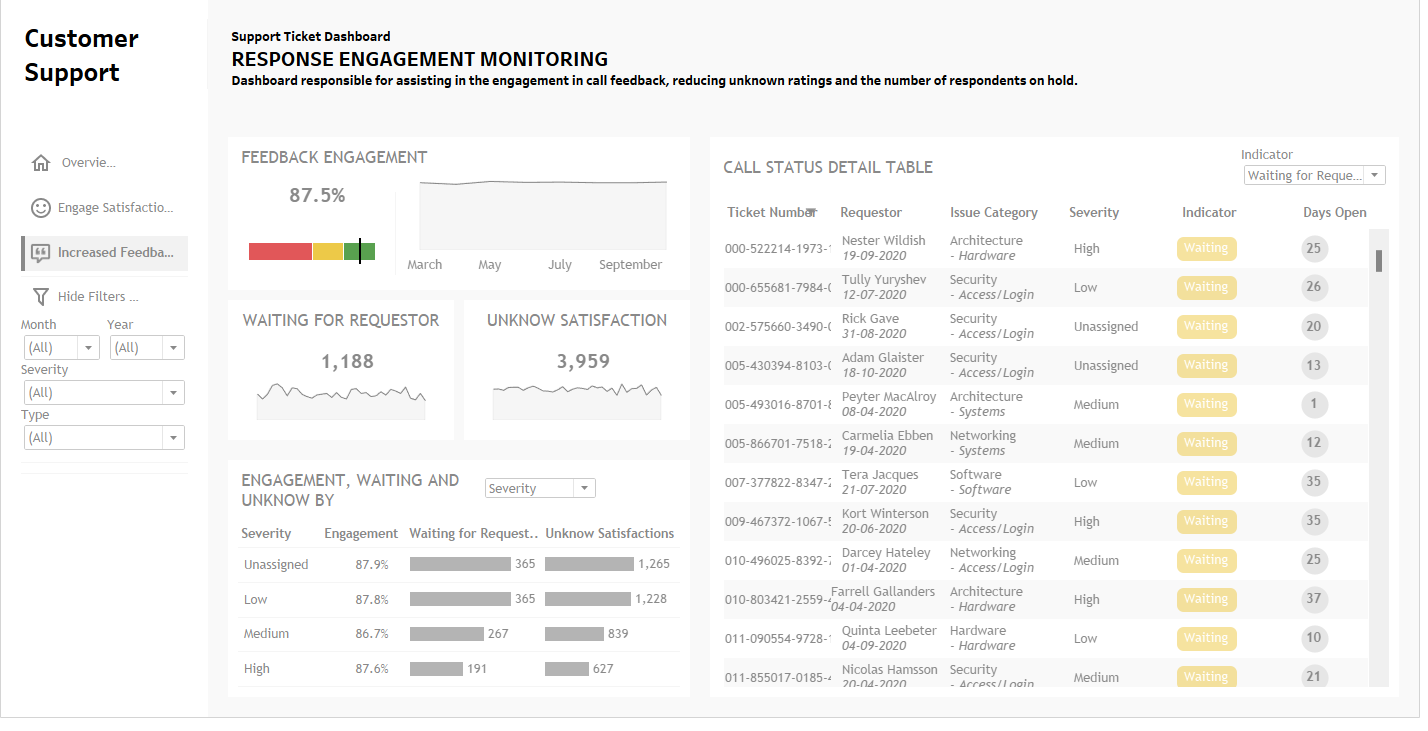

The dashboard page shown, as its layout file describes it:
{"tool":"tableau","page":{"name":"Increased Feedback - Light","canvas":[1420,720],"ordinal":1},"visuals":[{"type":"text","box":[1,1,206,110]},{"type":"blank","box":[207,1,1,110]},{"type":"text","box":[208,1,1211,118]},{"type":"text","box":[970,87,265,60]},{"type":"blank","box":[1,111,207,32]},{"type":"text","box":[228,139,462,40]},{"type":"text","box":[710,139,521,60]},{"type":"parameter","param":"[Parameters].[Parâmetro 6]","box":[1231,139,168,60]},{"type":"blank","box":[970,147,265,7]},{"type":"blank","box":[21,148,4,35]},{"type":"image","param":"Image/Home.png","box":[25,148,30,35]},{"type":"dashboard-object","box":[55,148,75,35]},{"type":"blank","box":[130,148,58,35]},{"type":"text","box":[970,154,265,310]},{"type":"blank","box":[226,165,157,55]},{"type":"worksheet","title":"Increased Feedback Light - Feedback Engagement","mark":"Square","box":[228,179,167,35]},{"type":"blank","box":[395,179,1,113]},{"type":"worksheet","title":"Increased Feedback Light - Engagement by Week","mark":"Line","rows":["Calculation_1188950346097377284","Calculation_1188950346097377284"],"cols":["created_date"],"box":[396,179,294,113]},{"type":"blank","box":[21,193,4,35]},{"type":"image","param":"Image/Engage.png","box":[25,193,30,35]},{"type":"dashboard-object","box":[55,193,123,35]},{"type":"blank","box":[178,193,10,35]},{"type":"text","box":[720,199,113,32]},{"type":"text","box":[833,199,110,32]},{"type":"text","box":[943,199,119,32]},{"type":"text","box":[1062,199,113,32]},{"type":"text","box":[1175,199,121,32]},{"type":"text","box":[1295.9,199,93.1,32]},{"type":"dashboard-object","box":[805,203,12,24]},{"type":"worksheet","title":"Increased Feedback Light - Feedback Engagement Speedometer","mark":"Bar","cols":["Calculation_1188950346097377284"],"box":[228,214,167,78]},{"type":"worksheet","title":"Increased Feedback Light -Table of Details","mark":"Circle","rows":["ticket_number"],"cols":["Calculation_361413912478396419","Calculation_361413912480407562","Calculation_361413912478396419","Calculation_361413912478396419","Calculation_925771243185537029","Calculation_925771243185631238"],"box":[710,231,689,468]},{"type":"text","box":[720,231,121,32]},{"type":"filter","title":"Increased Feedback Light -Table of Details","param":"[federated.0cysz861ktjxcq1fd9xv01acxm97].[none:ticket_number:nk]","box":[841,231,164,32]},{"type":"blank","box":[21,238,4,35]},{"type":"image","param":"Image/Feedback.png","box":[25,238,30,35]},{"type":"dashboard-object","box":[55,238,128,35]},{"type":"blank","box":[183,238,5,35]},{"type":"blank","box":[1,278,207,1]},{"type":"blank","box":[21,284,4,30]},{"type":"image","param":"Image/Filter Menu.png","box":[25,284,30,30]},{"type":"dashboard-object","box":[55,284,88,30]},{"type":"blank","box":[143,284,45,30]},{"type":"text","box":[228,302,226,40]},{"type":"text","box":[464,302,226,40]},{"type":"blank","box":[223,305,484,75]},{"type":"filter","title":"Increased Feedback Light -Table of Details","param":"[federated.0cysz861ktjxcq1fd9xv01acxm97].[none:Filter Year (cópia)_3909687863732","box":[21,319,84,45]},{"type":"filter","title":"Increased Feedback Light - Engagement by Week","param":"[federated.0cysz861ktjxcq1fd9xv01acxm97].[none:Calculation_390968786373120002:ok","box":[105,319,83,45]},{"type":"worksheet","title":"Increased Feedback Light - Waiting for Requester","mark":"Square","box":[228,342,226,41]},{"type":"worksheet","title":"Increased Feedback Light - Unknow Satisfaction","mark":"Square","box":[464,342,226,41]},{"type":"filter","title":"Increased Feedback Light - Engagement by Week","param":"[federated.0cysz861ktjxcq1fd9xv01acxm97].[none:severity:nk]","box":[21,364,167,45]},{"type":"worksheet","title":"Increased Feedback Light - Waiting for Requester by Week","mark":"Line","rows":["# Unknow SatisfactionTickets (cópia)_1188950346120732697","# Unknow SatisfactionTickets (cópia)_1188950346120732697"],"cols":["created_date"],"box":[228,383,226,59]},{"type":"worksheet","title":"Increased Feedback Light - Unknow Satisfaction by Week","mark":"Line","rows":["# Resolved Tickets (cópia)_1188950346114732056","# Resolved Tickets (cópia)_1188950346114732056"],"cols":["created_date"],"box":[464,383,226,59]},{"type":"filter","title":"Increased Feedback Light - Feedback Engagement","param":"[federated.0cysz861ktjxcq1fd9xv01acxm97].[none:ticket_type:nk]","box":[21,409,167,45]},{"type":"text","box":[228,462,254,55]},{"type":"parameter","param":"[Parameters].[Parâmetro 5]","box":[482,462,117,55]},{"type":"blank","box":[599,462,91,55]},{"type":"blank","box":[1,464,207,6]},{"type":"blank","box":[1,470,207,11]},{"type":"blank","box":[1,481,207,238]},{"type":"text","box":[238,522,83,27]},{"type":"text","box":[321,522,85,27]},{"type":"text","box":[406,522,136,27]},{"type":"text","box":[542,522,138,27]},{"type":"worksheet","title":"Increased Feedback Light - Waiting and Unknow by Owner Group","mark":"Automatic","rows":["Calculation_925771243168632832","Calculation_1188950346097377284"],"cols":["# Unknow SatisfactionTickets (cópia)_1188950346120732697","# Resolved Tickets (cópia)_1188950346114732056"],"box":[228,549,462,150]}]}

Visuals, with their boxes on the page's 1420x720 design canvas (x1, y1, x2, y2). These are canvas units, not pixel positions in the 1428x731 screenshot, which may show the page scaled, cropped or inside an application window:
text: 1:1:207:111
blank: 207:1:208:111
text: 208:1:1419:119
text: 970:87:1235:147
blank: 1:111:208:143
text: 228:139:690:179
text: 710:139:1231:199
parameter: 1231:139:1399:199
blank: 970:147:1235:154
blank: 21:148:25:183
image: 25:148:55:183
dashboard-object: 55:148:130:183
blank: 130:148:188:183
text: 970:154:1235:464
blank: 226:165:383:220
"Increased Feedback Light - Feedback Engagement" worksheet (Square marks): 228:179:395:214
blank: 395:179:396:292
"Increased Feedback Light - Engagement by Week" worksheet (Line marks): 396:179:690:292
blank: 21:193:25:228
image: 25:193:55:228
dashboard-object: 55:193:178:228
blank: 178:193:188:228
text: 720:199:833:231
text: 833:199:943:231
text: 943:199:1062:231
text: 1062:199:1175:231
text: 1175:199:1296:231
text: 1296:199:1389:231
dashboard-object: 805:203:817:227
"Increased Feedback Light - Feedback Engagement Speedometer" worksheet (Bar marks): 228:214:395:292
"Increased Feedback Light -Table of Details" worksheet (Circle marks): 710:231:1399:699
text: 720:231:841:263
"Increased Feedback Light -Table of Details" filter: 841:231:1005:263
blank: 21:238:25:273
image: 25:238:55:273
dashboard-object: 55:238:183:273
blank: 183:238:188:273
blank: 1:278:208:279
blank: 21:284:25:314
image: 25:284:55:314
dashboard-object: 55:284:143:314
blank: 143:284:188:314
text: 228:302:454:342
text: 464:302:690:342
blank: 223:305:707:380
"Increased Feedback Light -Table of Details" filter: 21:319:105:364
"Increased Feedback Light - Engagement by Week" filter: 105:319:188:364
"Increased Feedback Light - Waiting for Requester" worksheet (Square marks): 228:342:454:383
"Increased Feedback Light - Unknow Satisfaction" worksheet (Square marks): 464:342:690:383
"Increased Feedback Light - Engagement by Week" filter: 21:364:188:409
"Increased Feedback Light - Waiting for Requester by Week" worksheet (Line marks): 228:383:454:442
"Increased Feedback Light - Unknow Satisfaction by Week" worksheet (Line marks): 464:383:690:442
"Increased Feedback Light - Feedback Engagement" filter: 21:409:188:454
text: 228:462:482:517
parameter: 482:462:599:517
blank: 599:462:690:517
blank: 1:464:208:470
blank: 1:470:208:481
blank: 1:481:208:719
text: 238:522:321:549
text: 321:522:406:549
text: 406:522:542:549
text: 542:522:680:549
"Increased Feedback Light - Waiting and Unknow by Owner Group" worksheet: 228:549:690:699
